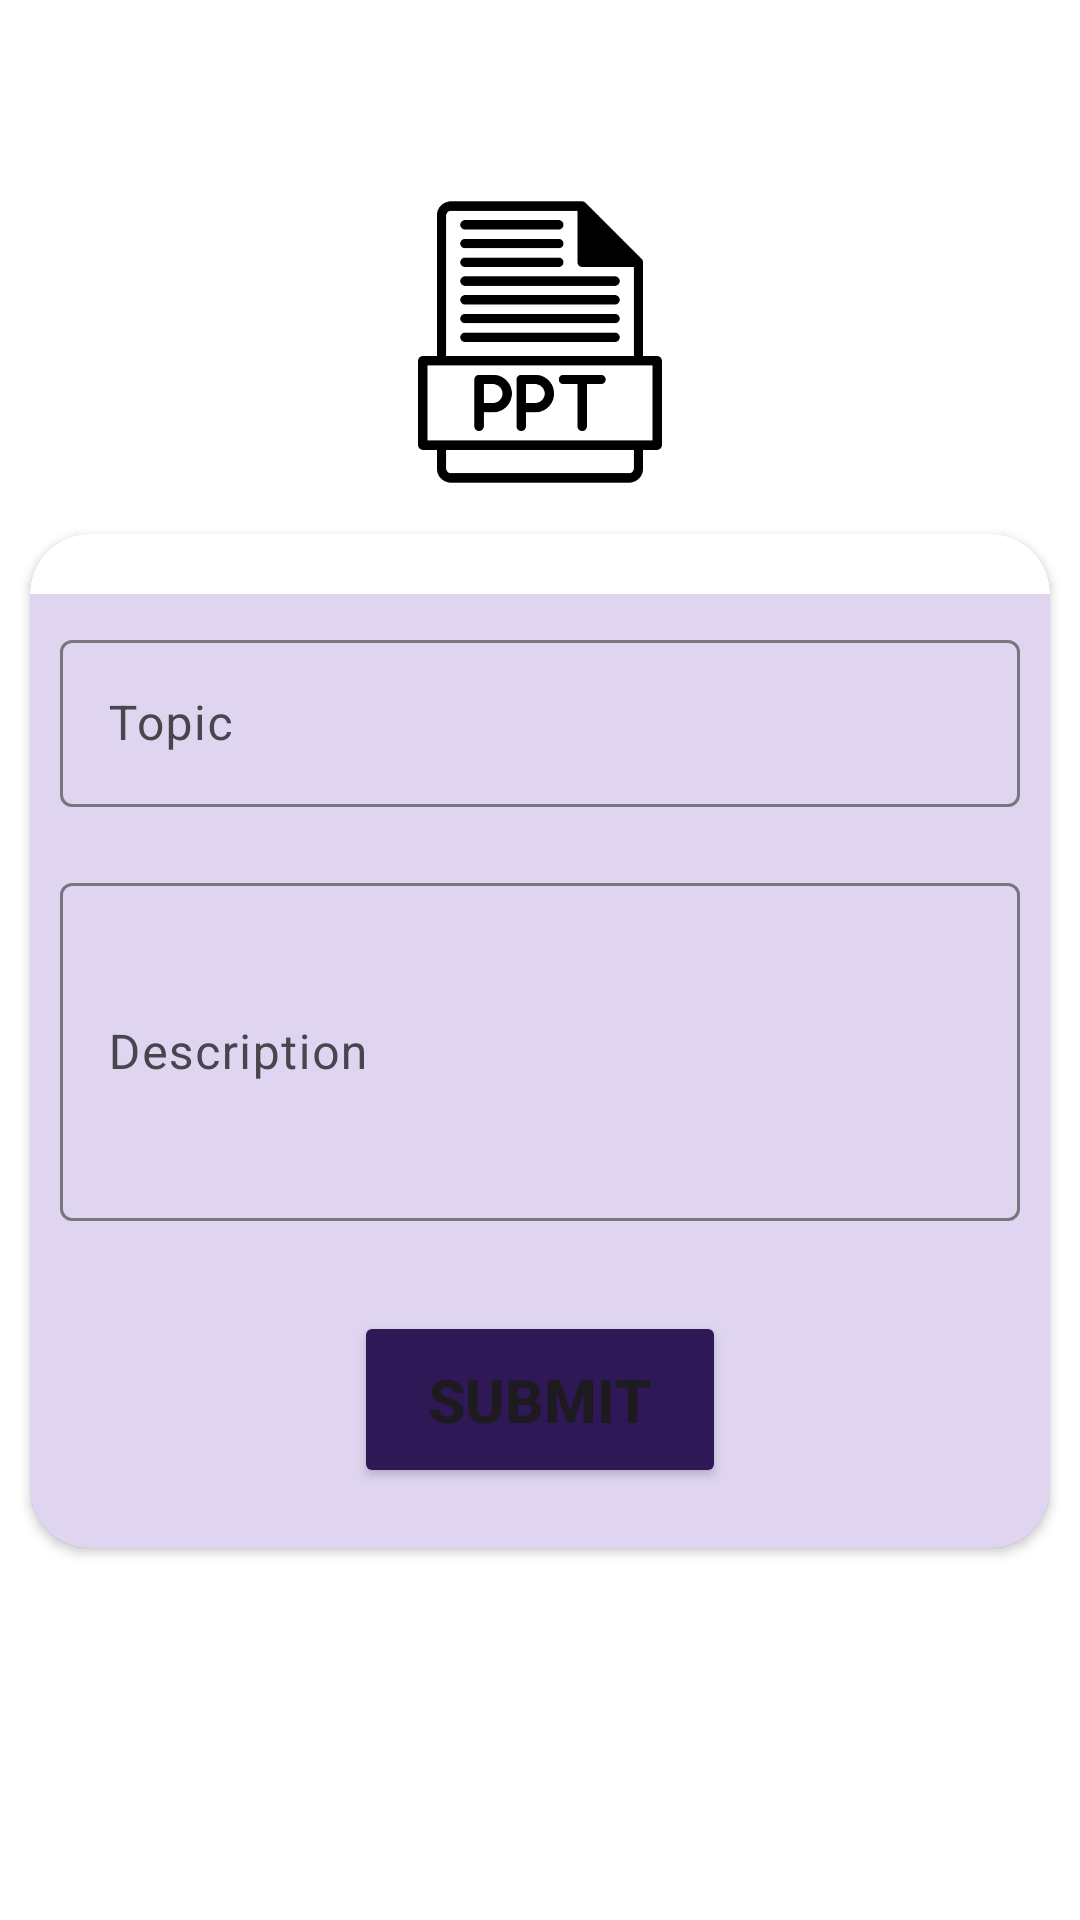

Screen size 1080*1920. Icon name, then its center in pixels as point (x, y):
ppt upload: point (540, 342)
